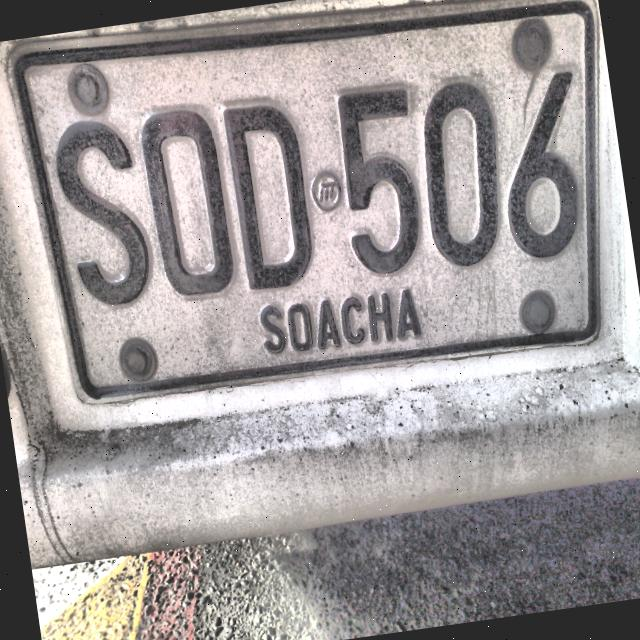0: (409, 69, 514, 268)
5: (324, 76, 432, 279)
6: (503, 59, 584, 276)
D: (219, 92, 323, 298)
O: (138, 100, 240, 300)
S: (39, 113, 162, 322)
